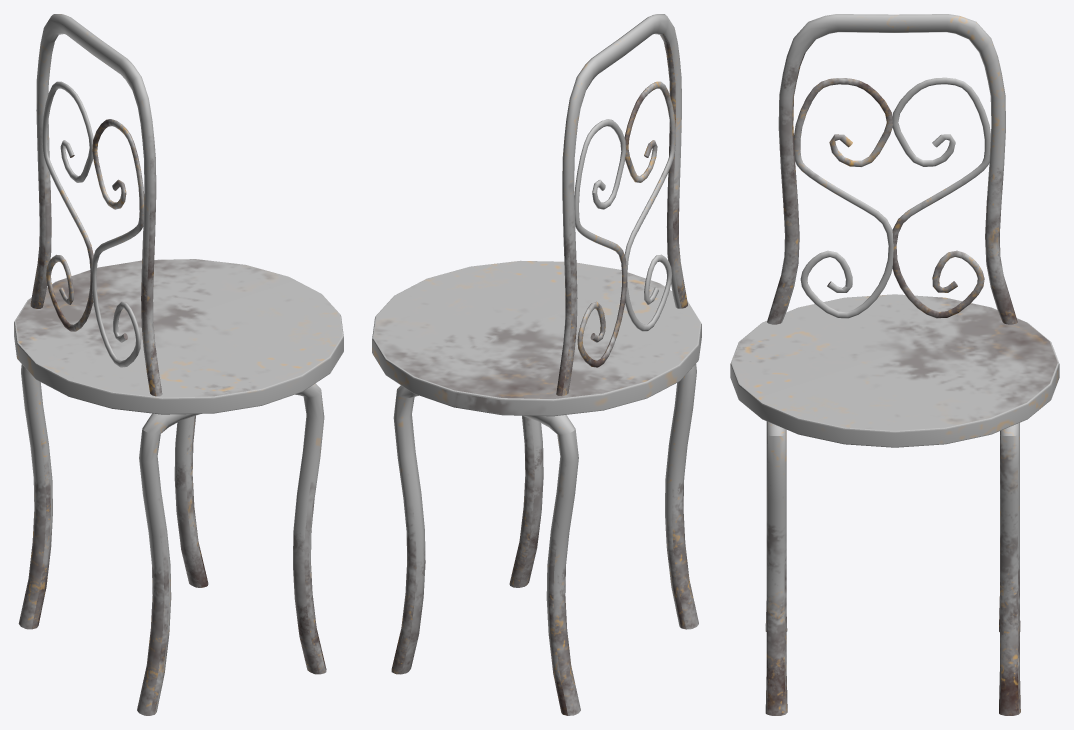
File: metal_chair.fbx
The picture shows the model from 3 angles, left to right: view 1: azimuth 30°, elevation 25°; view 2: azimuth 150°, elevation 25°; view 3: azimuth 270°, elevation 25°; orthographic projection.
Visible parts, largest first — view 1: pCylinder1, pCylinder16; view 2: pCylinder1, pCylinder16; view 3: pCylinder1, pCylinder16.
Part boxes in pixels (box(x1,y1,x2,y2)): pCylinder1: box(14, 259, 343, 414); pCylinder16: box(18, 14, 326, 715); pCylinder1: box(372, 260, 701, 416); pCylinder16: box(391, 14, 698, 715); pCylinder1: box(730, 294, 1059, 447); pCylinder16: box(765, 14, 1020, 715).
Size of the model in its own units: 0.5254 by 1.1 by 0.5299.
